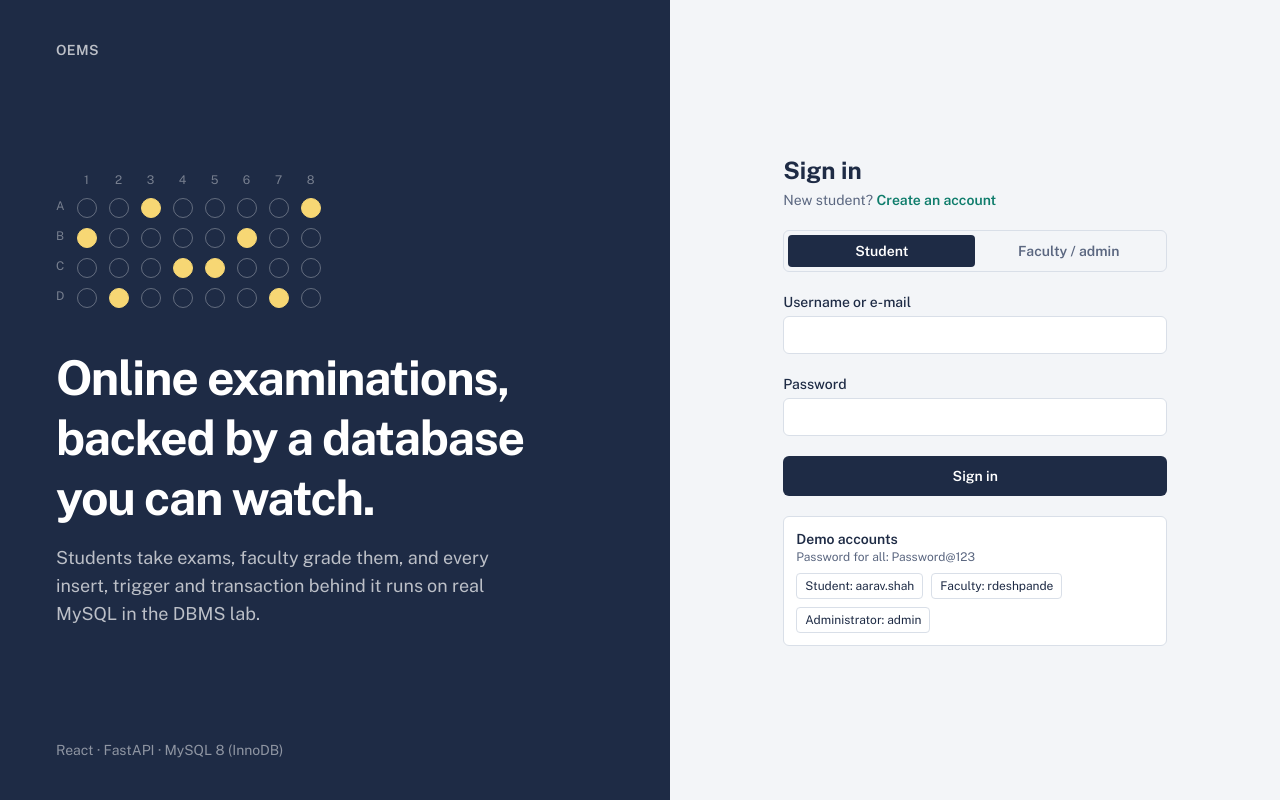
login form › enforces the password rule when registering
Click the button "Create an account" at {"x": 936, "y": 200}, box [876,190,996,210]
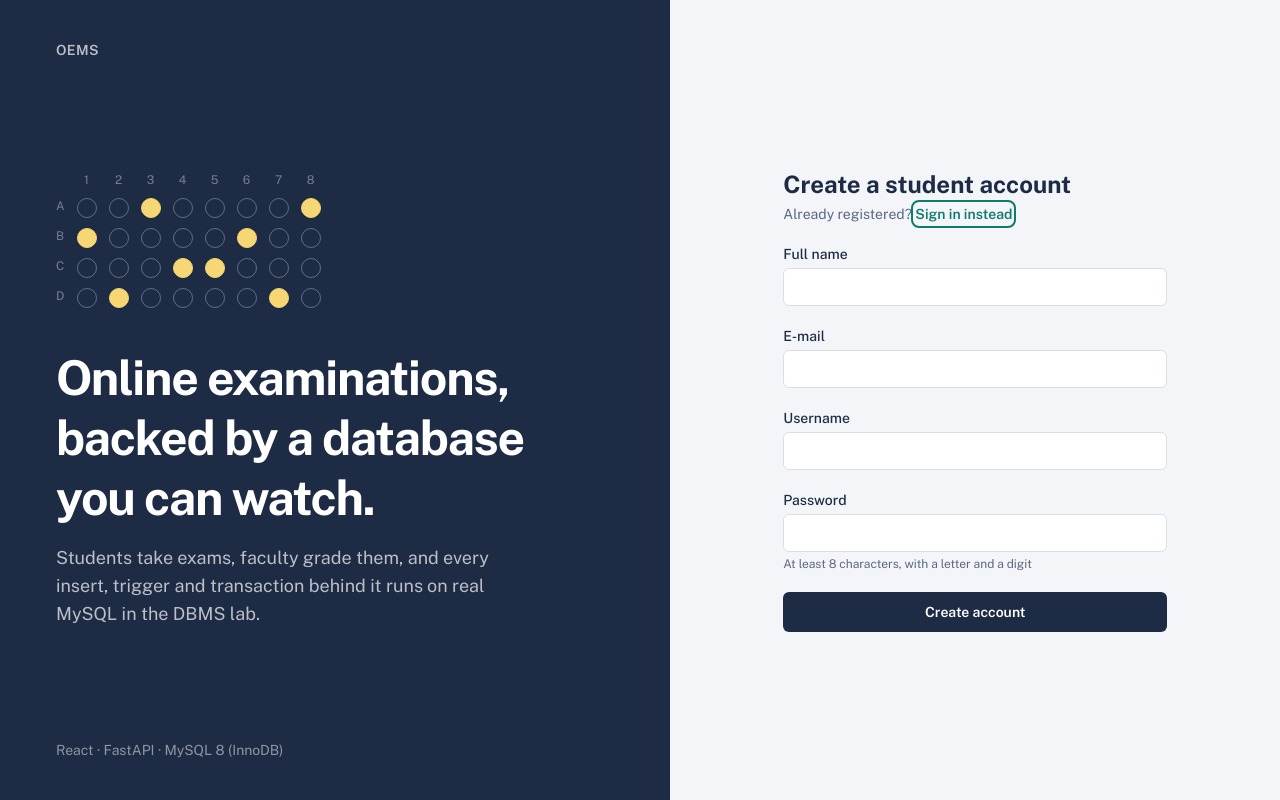
Type "Test User" into the field labelled "Full name" at {"x": 975, "y": 287}, box [783,268,1167,306]
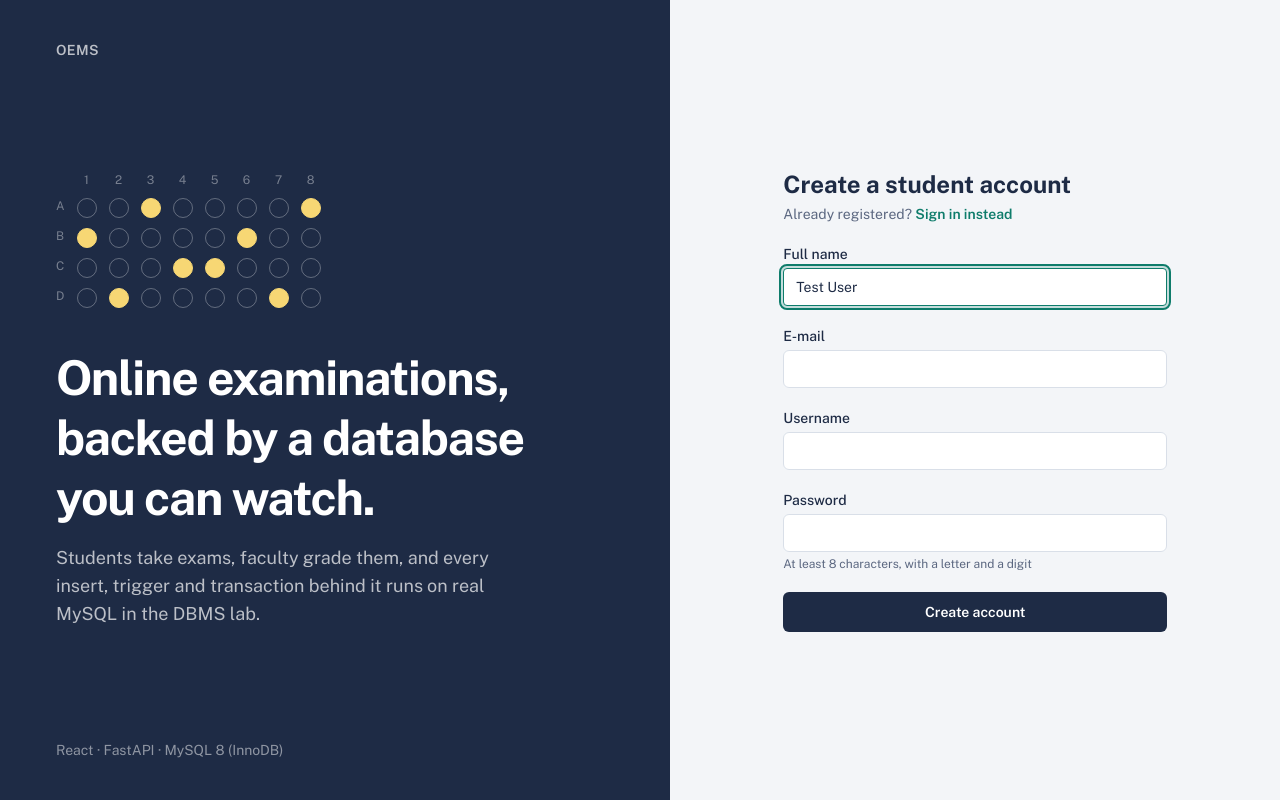
Type "test@example.com" into the field labelled "E-mail" at {"x": 975, "y": 369}, box [783,350,1167,388]
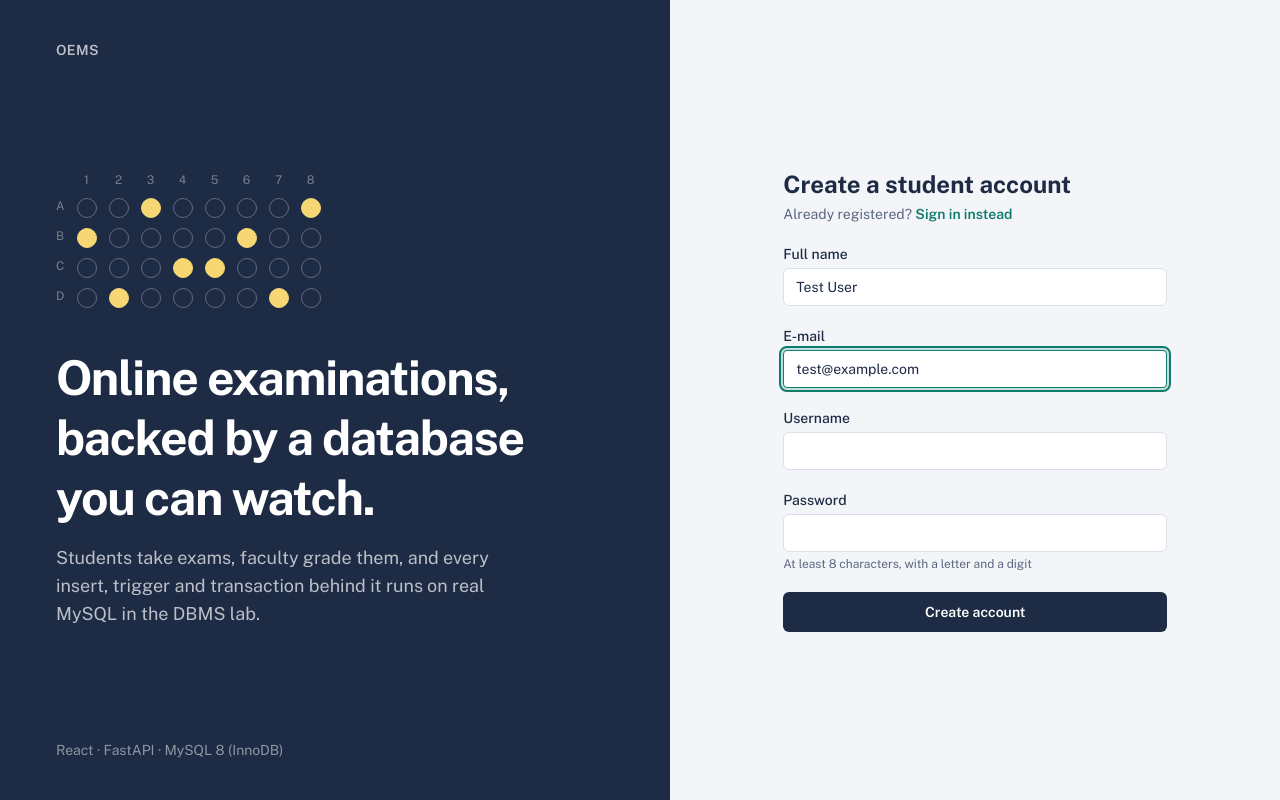
Type "test_user" into the field labelled "Username" at {"x": 975, "y": 451}, box [783,432,1167,470]
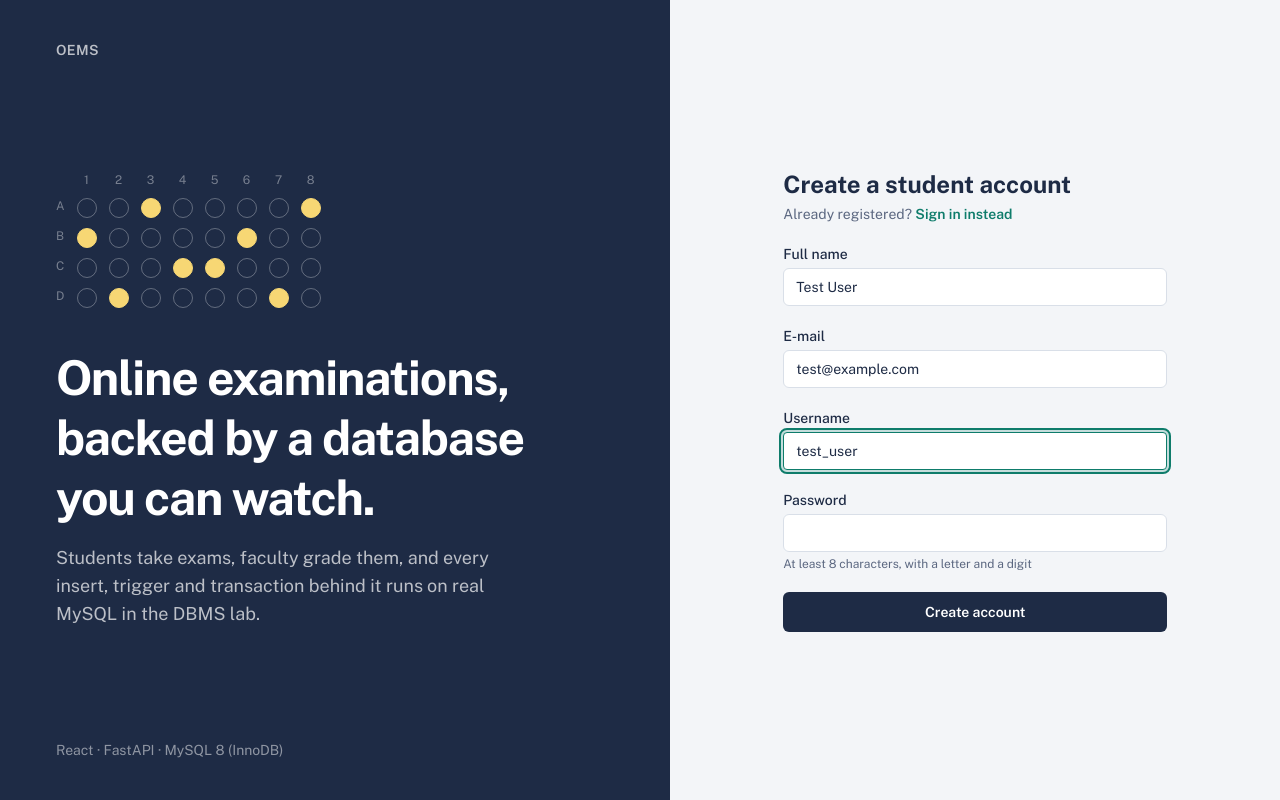
Type "short" into the password field labelled "Password At least 8 characters, with a letter and a digit" at {"x": 975, "y": 533}, box [783,514,1167,552]
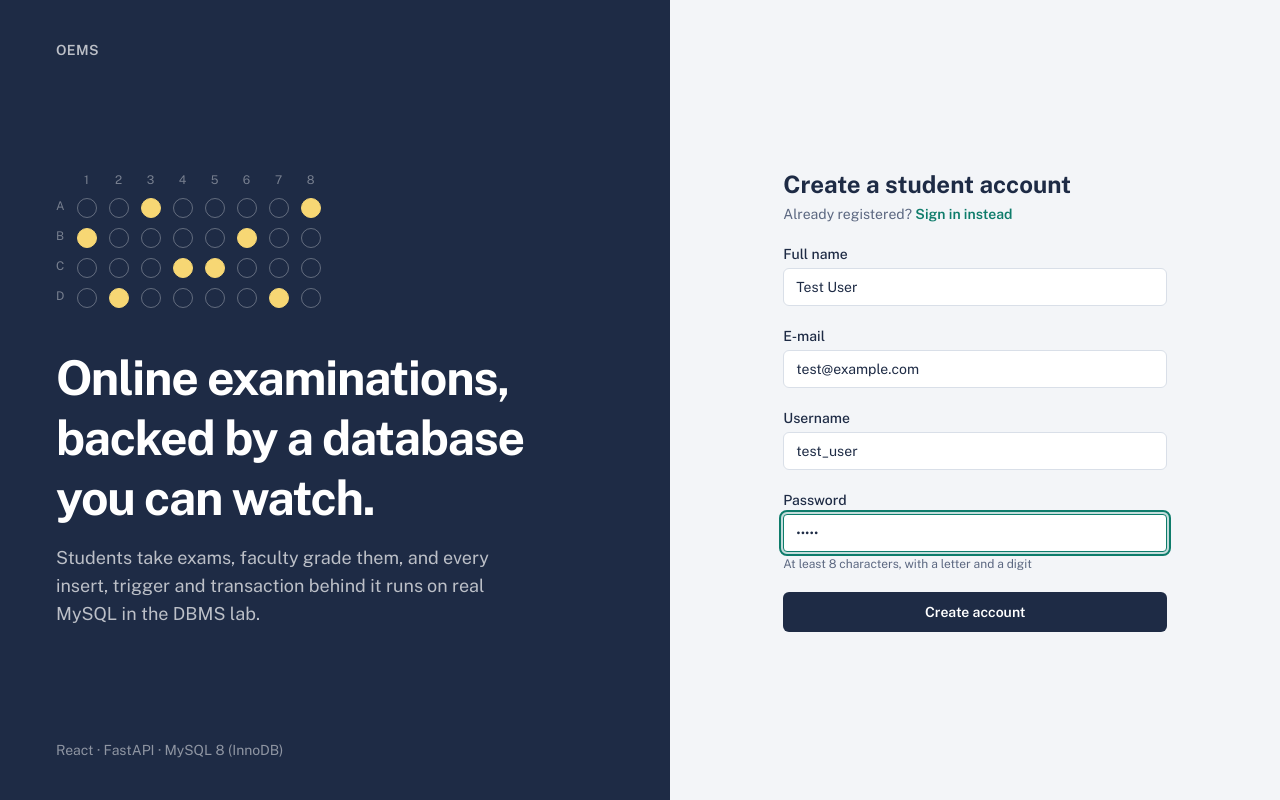
Click the button "Create account" at {"x": 975, "y": 612}, box [783,592,1167,632]
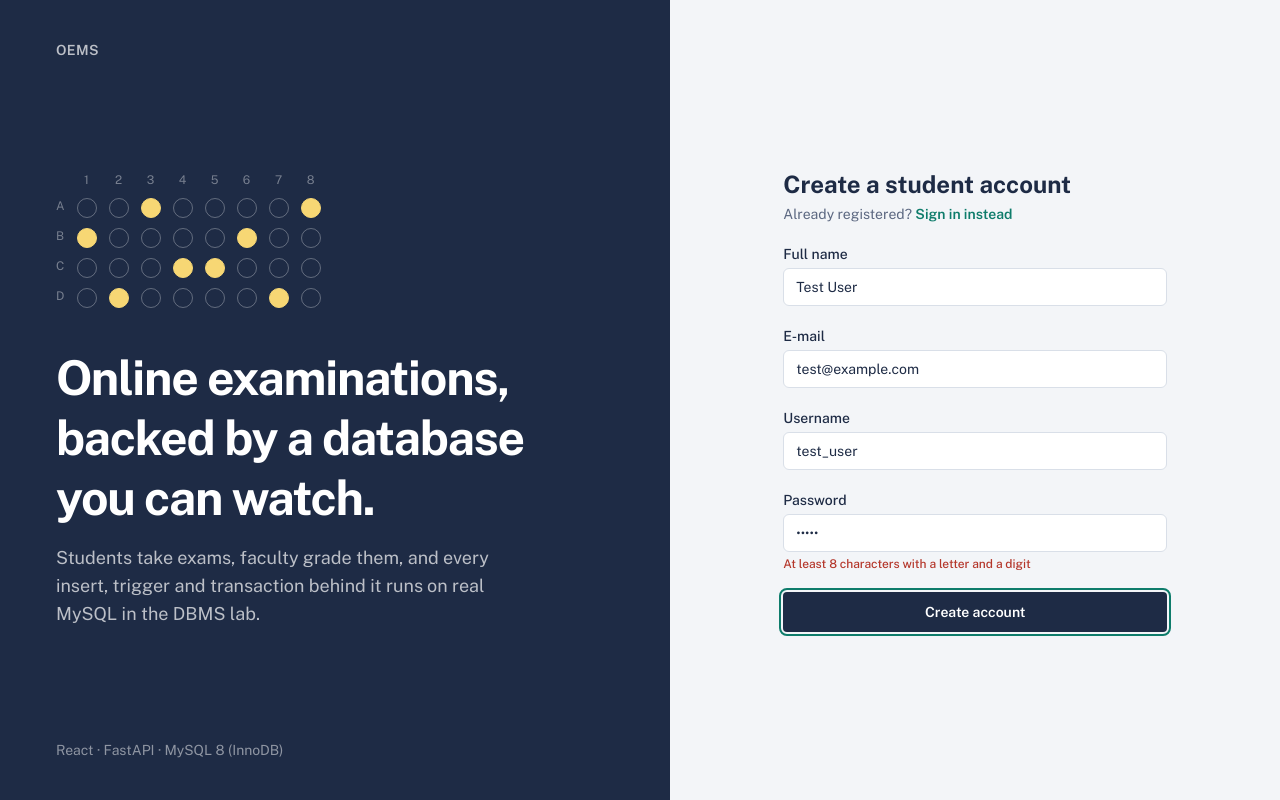
Result: the text "At least 8 characters with a letter and a digit" is shown at [783,557,1031,571]
